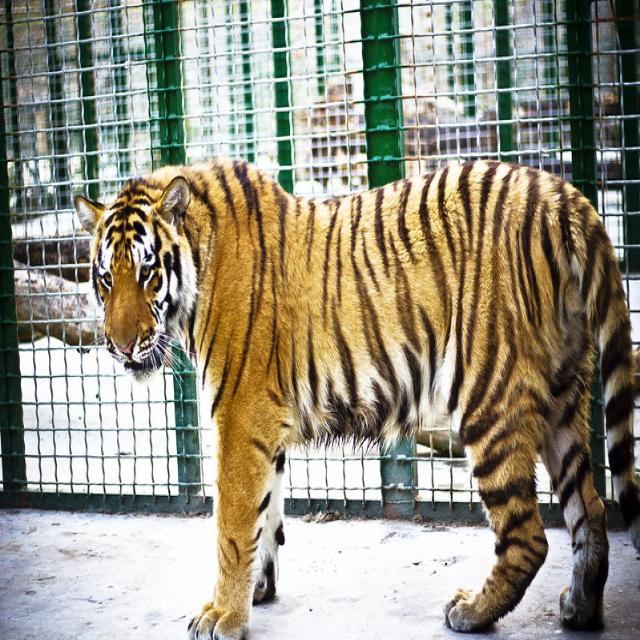Tiger: (67, 142, 634, 635)
